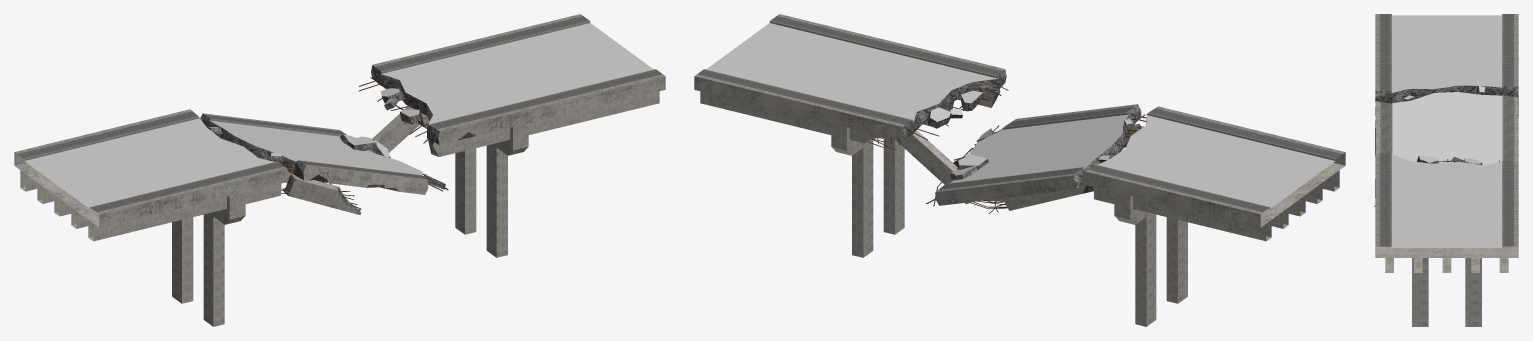
The model's file is mroad2.FBX.
3 views of the same model, side by side, from view 1: azimuth 30°, elevation 25°; view 2: azimuth 150°, elevation 25°; view 3: azimuth 270°, elevation 25° (orthographic). The views are drawn at different scales.
Parts seen in each view (by area): view 1: polySurface1926; view 2: polySurface1926; view 3: polySurface1926.
Boxes of the visible parts, x1,y1,x2,y2 form: polySurface1926: (14,14,665,326); polySurface1926: (694,14,1345,326); polySurface1926: (1374,14,1518,326).
Size of the model in its own units: 50 by 13.65 by 13.14.
